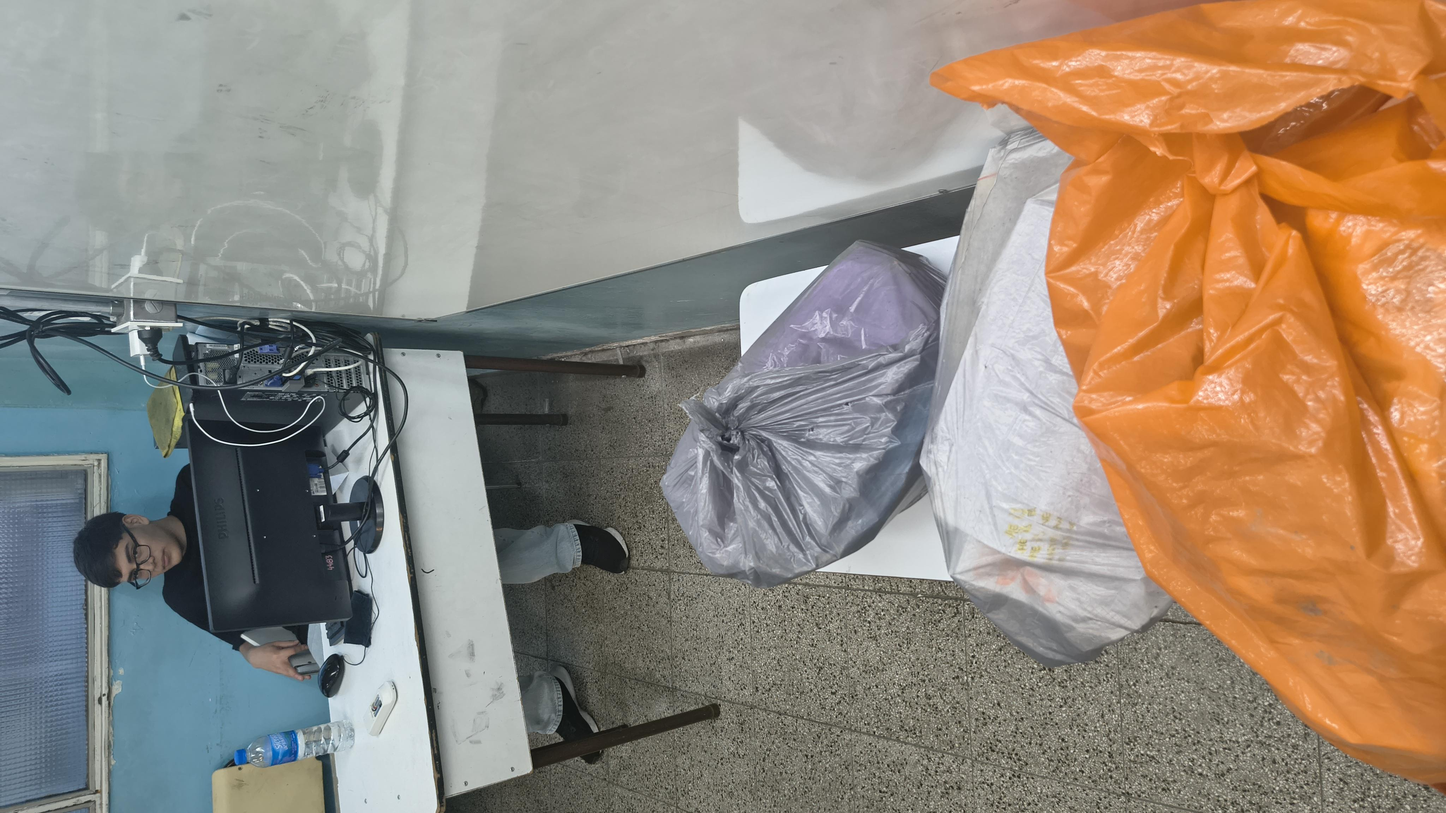Garbage: (13, 514, 1418, 812), (226, 496, 1287, 677), (345, 367, 1054, 540)
